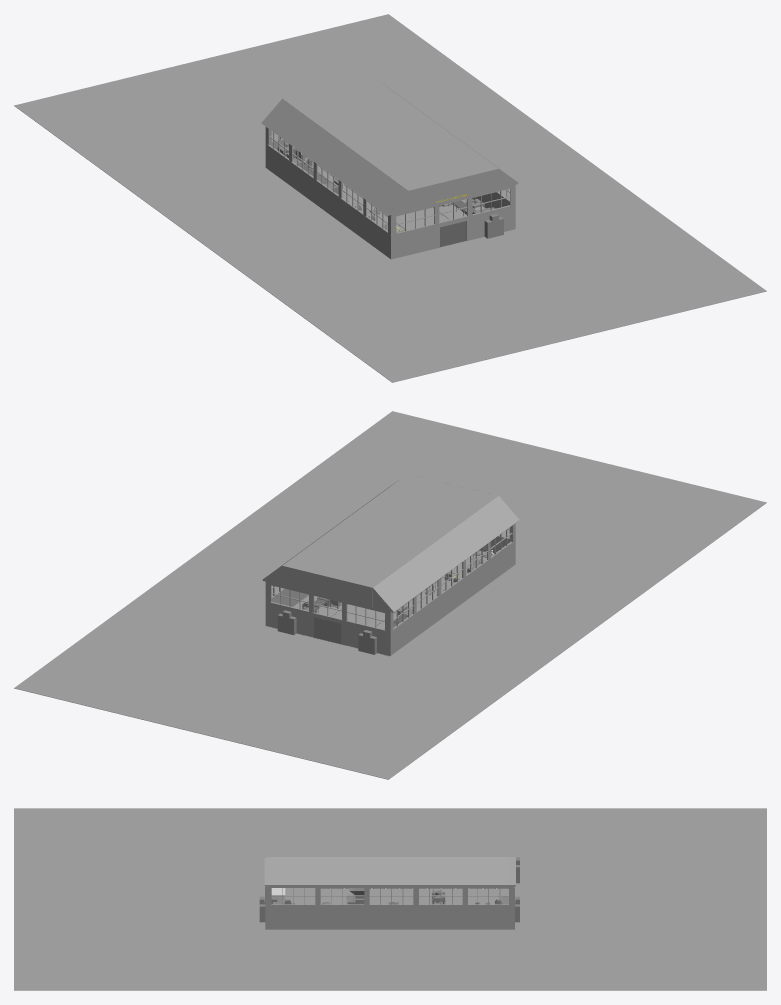
The model's file is factoryBuilding.glb.
3 views of the same model, one above another, from view 1: azimuth 30°, elevation 25°; view 2: azimuth 150°, elevation 25°; view 3: azimuth 270°, elevation 25° (orthographic).
Visible parts, largest first — view 1: Cube(Clone).011, Cube(Clone), Cube(Clone).132, Cube(Clone).134, Cube(Clone).550, Cube(Clone).002, Cube(Clone).015; view 2: Cube(Clone).011, Cube(Clone), Cube(Clone).132, Cube(Clone).134, Cube(Clone).002, Cube(Clone).144, Cube(Clone).006, Cube(Clone).005; view 3: Cube(Clone).011, Cube(Clone), Cube(Clone).003, Cube(Clone).010, Cube(Clone).002, Cube(Clone).001.
Boxes of the visible parts, bbox=[...] form: Cube(Clone).011: bbox=[14, 14, 766, 382]; Cube(Clone): bbox=[282, 76, 497, 190]; Cube(Clone).132: bbox=[261, 99, 408, 215]; Cube(Clone).134: bbox=[266, 144, 390, 258]; Cube(Clone).550: bbox=[408, 168, 498, 210]; Cube(Clone).002: bbox=[265, 158, 485, 247]; Cube(Clone).015: bbox=[412, 223, 439, 253]; Cube(Clone).011: bbox=[14, 411, 766, 779]; Cube(Clone): bbox=[282, 474, 497, 588]; Cube(Clone).132: bbox=[373, 495, 519, 612]; Cube(Clone).134: bbox=[390, 541, 514, 655]; Cube(Clone).002: bbox=[265, 555, 486, 656]; Cube(Clone).144: bbox=[282, 567, 372, 607]; Cube(Clone).006: bbox=[341, 620, 390, 655]; Cube(Clone).005: bbox=[265, 602, 314, 637]; Cube(Clone).011: bbox=[14, 808, 766, 990]; Cube(Clone): bbox=[266, 813, 515, 856]; Cube(Clone).003: bbox=[264, 857, 509, 885]; Cube(Clone).010: bbox=[267, 905, 513, 929]; Cube(Clone).002: bbox=[265, 886, 515, 929]; Cube(Clone).001: bbox=[266, 886, 514, 887].
Bounding box in the file's own units: 48.1 × 8.93 × 84.18.
10 materials, 1 textured.
